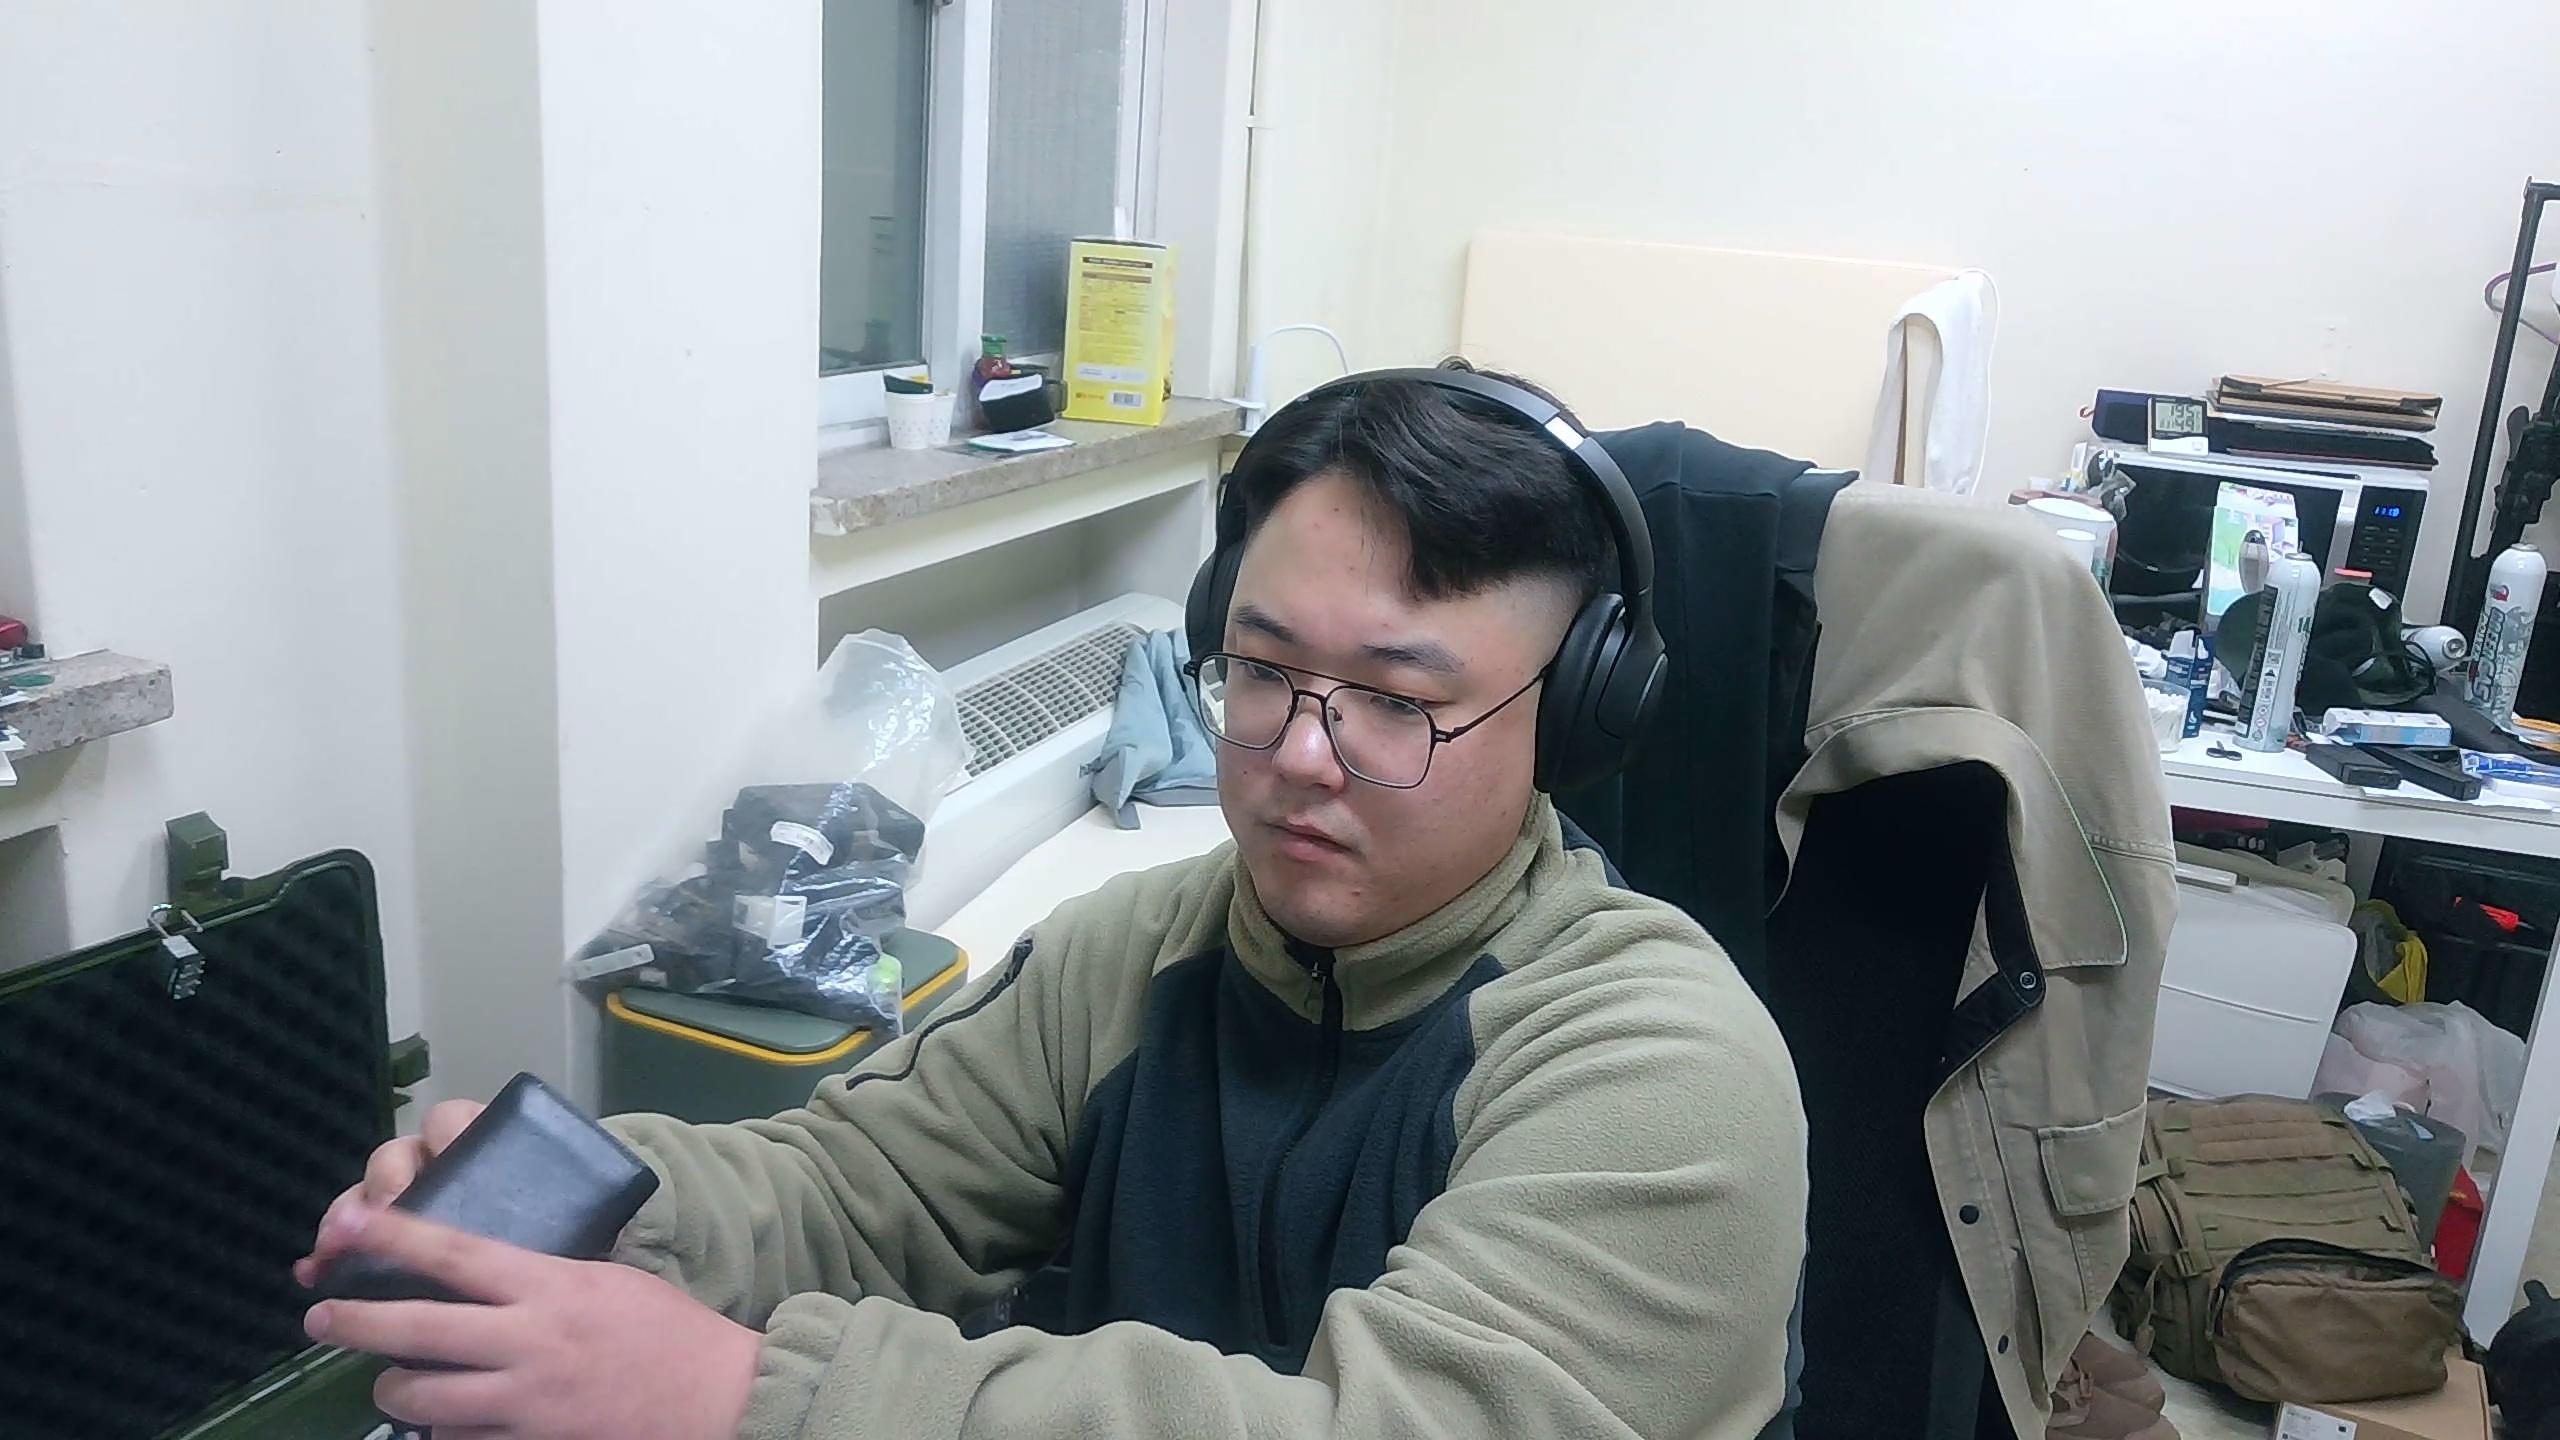Wallet: (313, 1067, 665, 1438)
